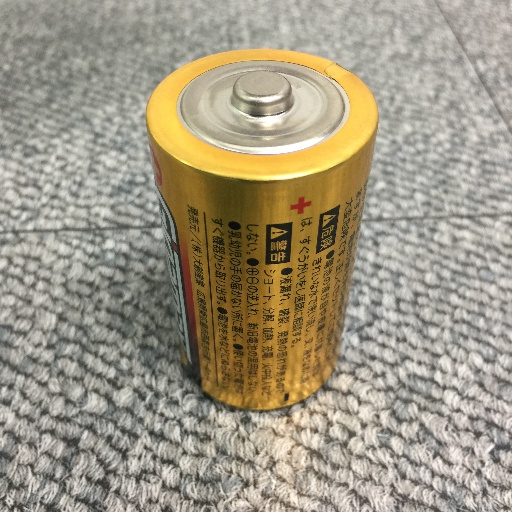Battery_0: (126, 30, 393, 427)
